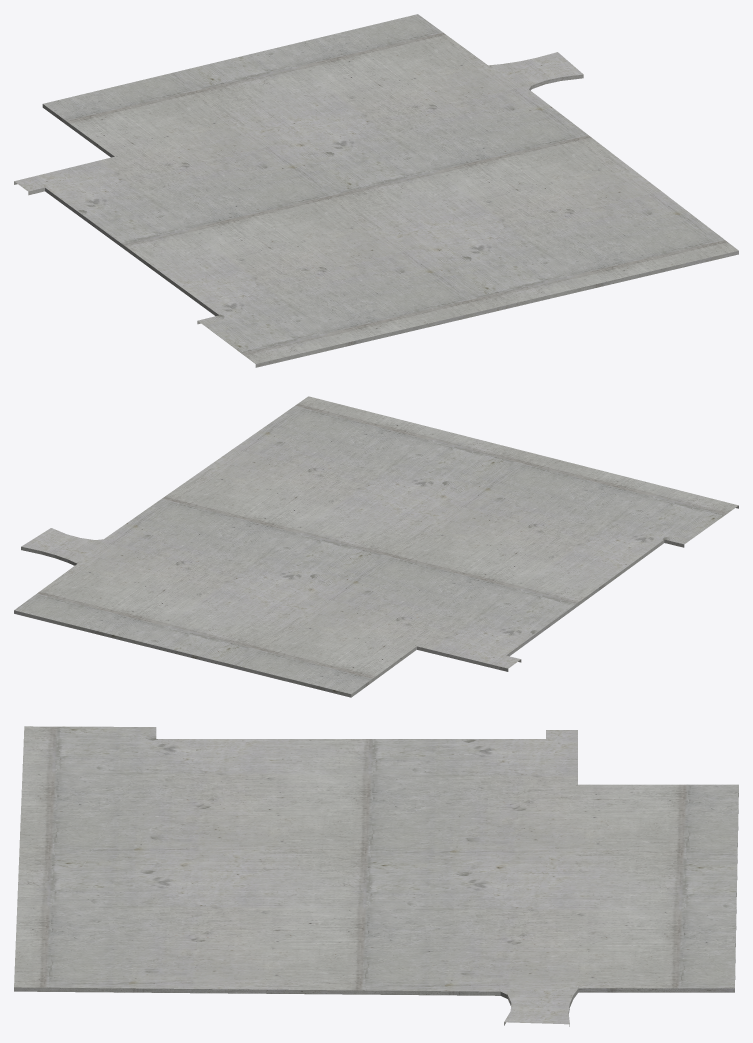
The model's file is road_p10_07.fbx.
3 views of the same model, one above another, from view 1: azimuth 30°, elevation 25°; view 2: azimuth 150°, elevation 25°; view 3: azimuth 270°, elevation 25° (orthographic). The views are drawn at different scales.
Visible parts, largest first — view 1: road_p10_07; view 2: road_p10_07; view 3: road_p10_07.
Part boxes in pixels (x1,y1,x2,y2): road_p10_07: [14, 14, 738, 367]; road_p10_07: [14, 396, 738, 697]; road_p10_07: [14, 726, 738, 1026].
Bounding box in the file's own units: 7614 × 50 × 7832.
